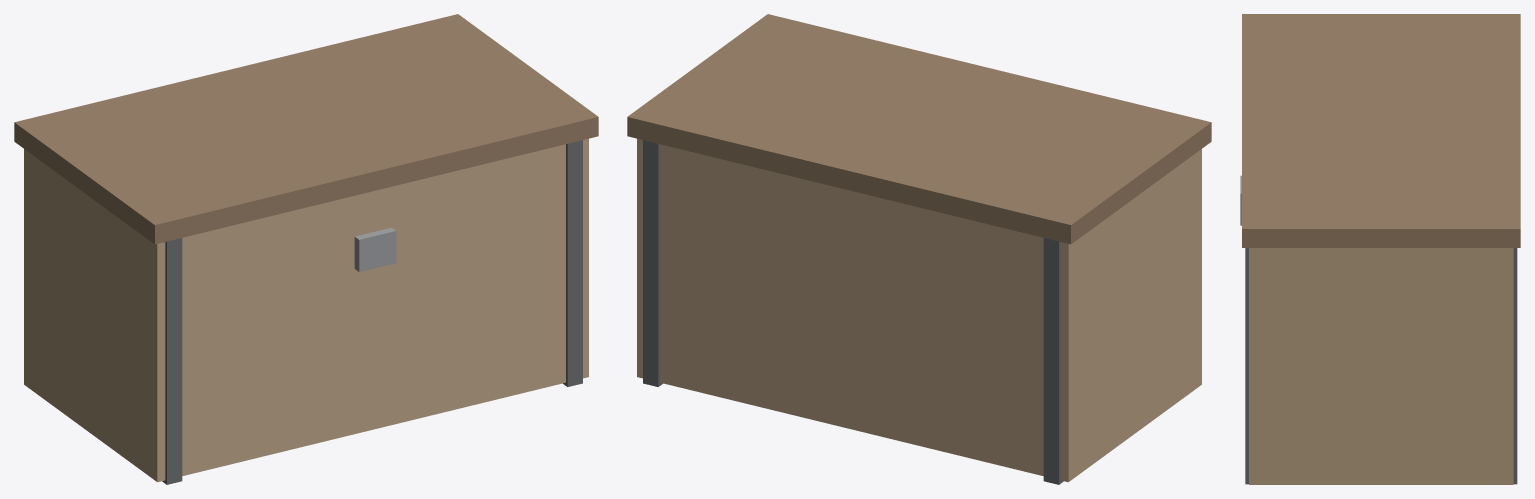
The model's file is deploy_boxlarge.glb.
The picture shows the model from 3 angles, left to right: view 1: azimuth 30°, elevation 25°; view 2: azimuth 150°, elevation 25°; view 3: azimuth 270°, elevation 25°; orthographic projection.
Parts seen in each view (by area): view 1: deploy_boxlarge; view 2: deploy_boxlarge; view 3: deploy_boxlarge.
Part boxes in pixels (x1,y1,x2,y2): deploy_boxlarge: [14, 14, 598, 484]; deploy_boxlarge: [627, 14, 1211, 484]; deploy_boxlarge: [1240, 14, 1520, 484].
Size of the model in its own units: 1.44 by 0.82 by 0.795.
